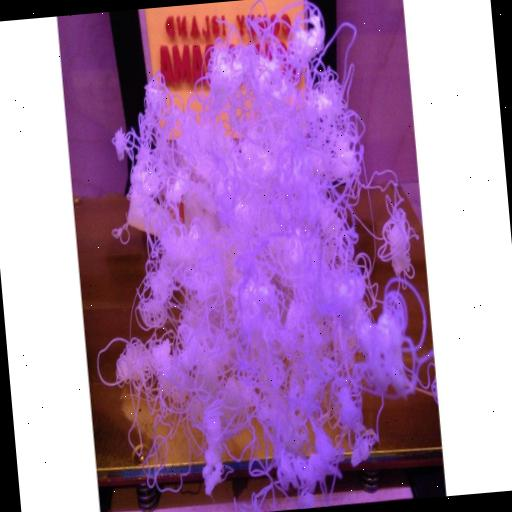spaghetti: (63, 0, 437, 512)
